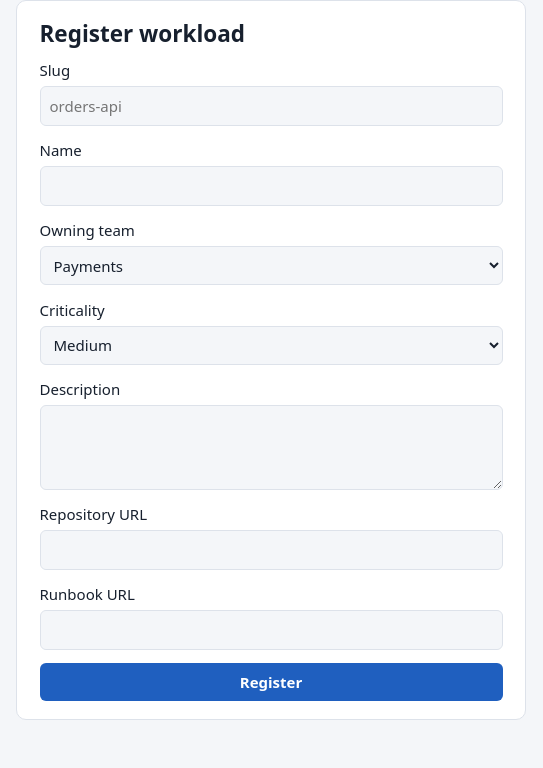
it: NewWorkloadPage › keeps the input and shows a conflict reported by the API
Type "search-api" into the field labelled "Slug" at {"x": 271, "y": 106}, box [40,86,502,126]
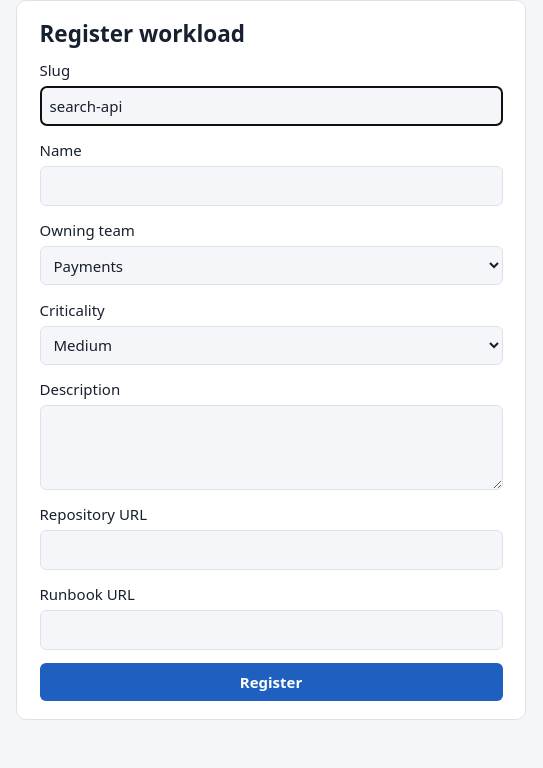
Type "Search API" into the field labelled "Name" at {"x": 271, "y": 186}, box [40,166,502,206]
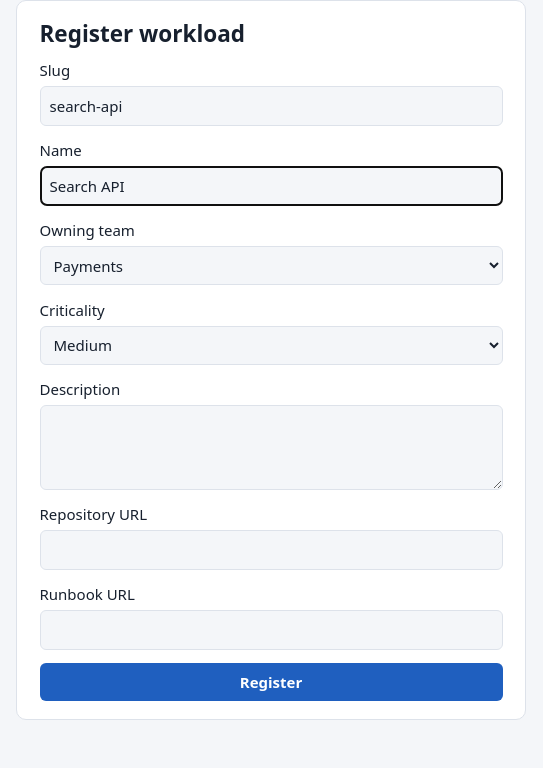
Click the button "Register" at {"x": 271, "y": 682}, box [40,663,502,701]
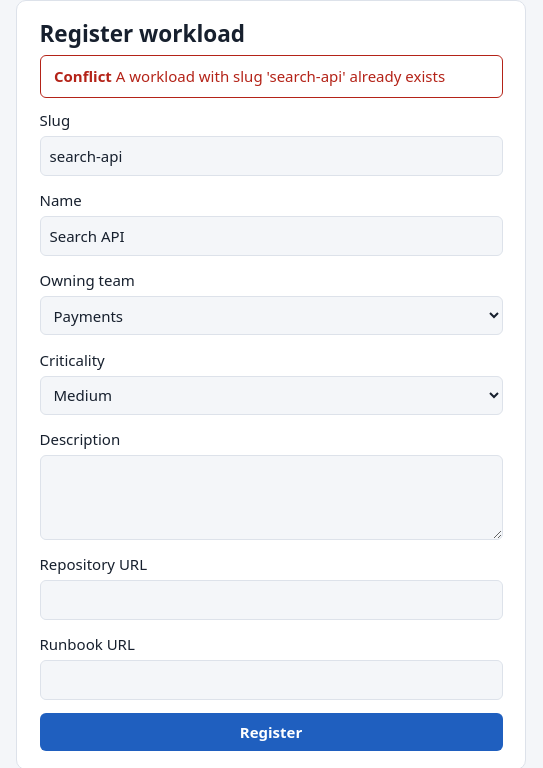
Result: the message shows "A workload with slug 'search-api' already exists" at [116,66,445,86]
